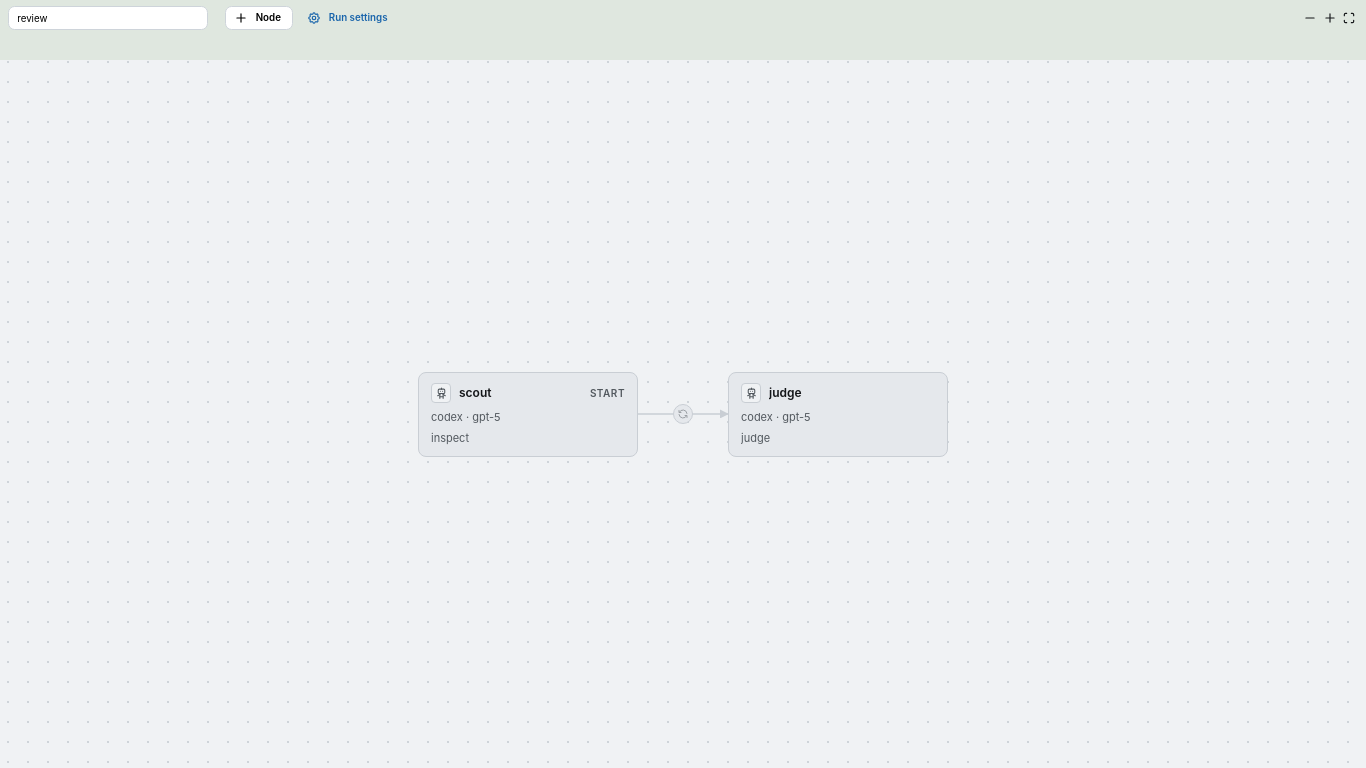
ChainCanvas — external Playbook edits › does not replace an edit made while the reload is in flight
The width and height of the screenshot is (1366, 768).
expect the button with test id "chain-node-scout" is shown: met, box [418, 372, 638, 457]
Step 1. Replace the text in the field with test id "chain-name" with "My draft" → (108, 18), box [8, 6, 208, 30]
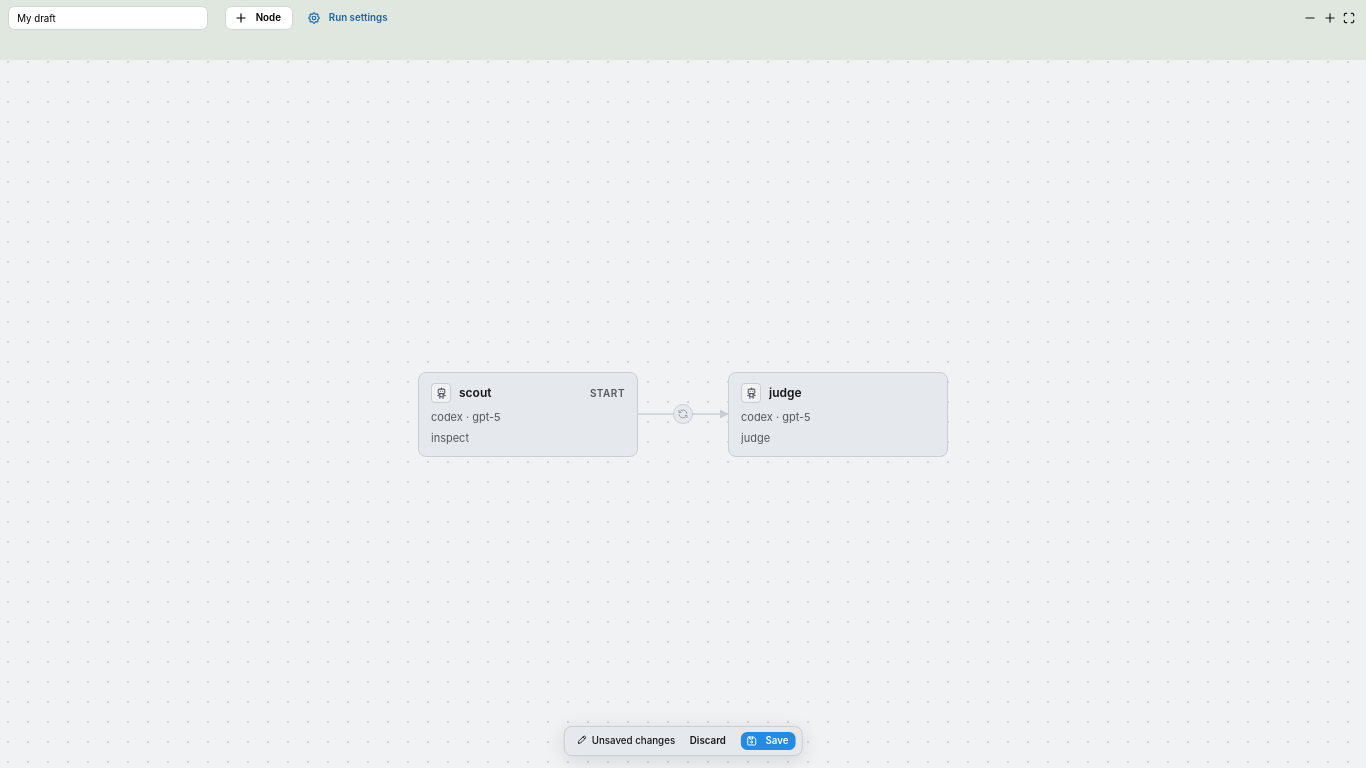
expect the element with test id "chain-dirty" is shown: met, box [577, 734, 675, 748]
